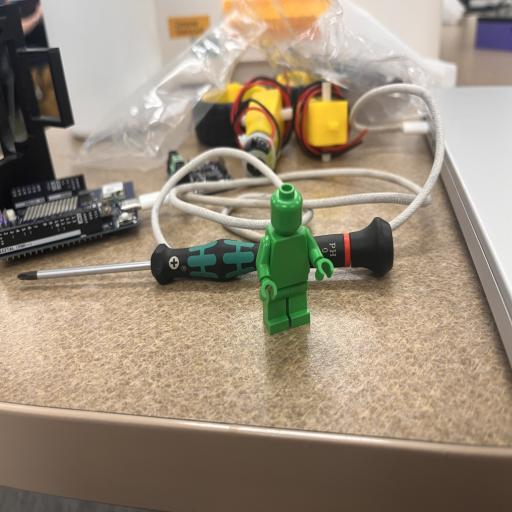Lego-Minifig: (271, 183, 302, 236)
